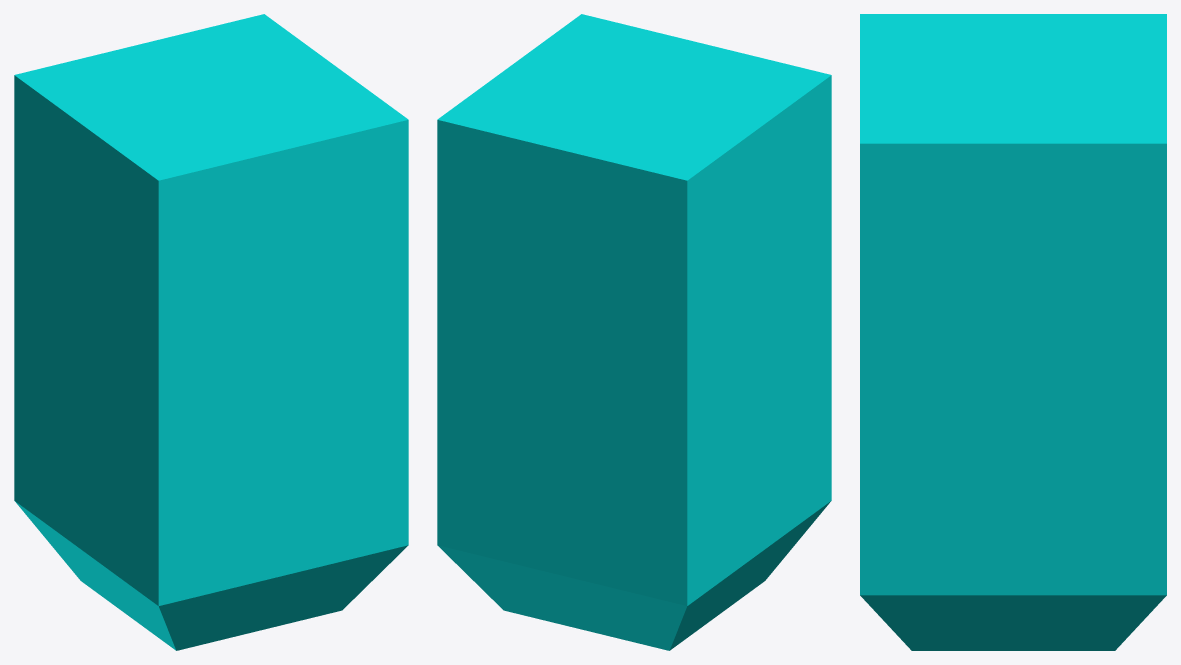
Rendered from SM_Bld_Battlements_End_04_Collision.fbx.
The picture shows the model from 3 angles, left to right: view 1: azimuth 30°, elevation 25°; view 2: azimuth 150°, elevation 25°; view 3: azimuth 270°, elevation 25°; orthographic projection. The views are drawn at different scales.
Parts seen in each view (by area): view 1: SM_Bld_Battlements_End_04_Collision; view 2: SM_Bld_Battlements_End_04_Collision; view 3: SM_Bld_Battlements_End_04_Collision.
Boxes of the visible parts, left/top/right/bottom form: SM_Bld_Battlements_End_04_Collision: left=14, top=14, right=408, bottom=650; SM_Bld_Battlements_End_04_Collision: left=437, top=14, right=831, bottom=650; SM_Bld_Battlements_End_04_Collision: left=860, top=14, right=1166, bottom=650.
Bounding box in the file's own units: 124 × 236 × 124.
